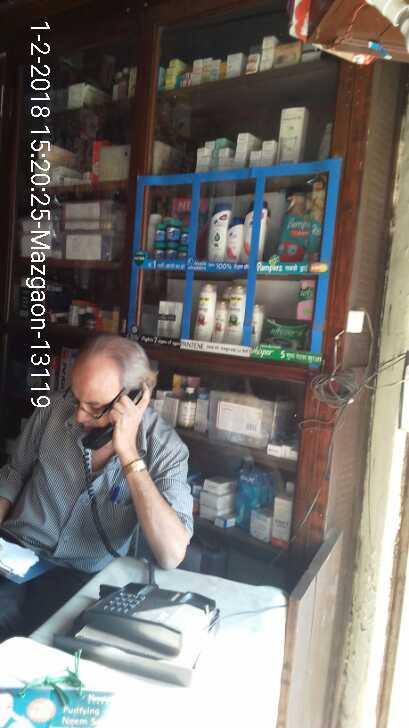beauty: (205, 198, 228, 260), (151, 296, 181, 341), (196, 280, 212, 340), (229, 283, 244, 346)
pharmacy: (275, 183, 325, 267), (256, 306, 309, 355), (152, 217, 187, 262)
